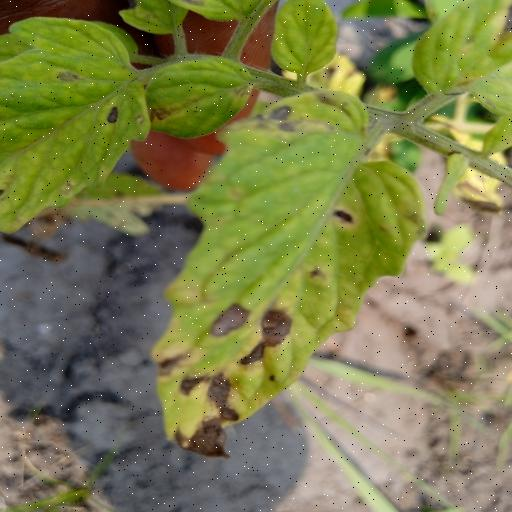Tomato_Brown_Spots: (155, 86, 427, 464), (0, 11, 155, 233)
